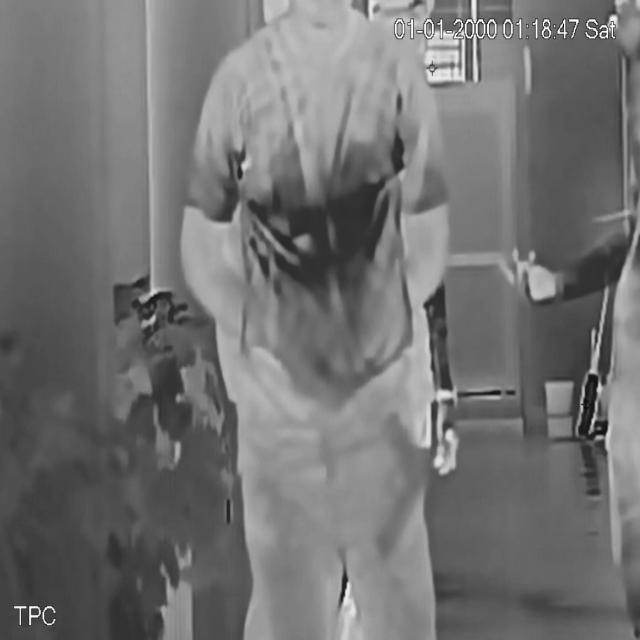Weapon: (366, 404, 445, 572)
